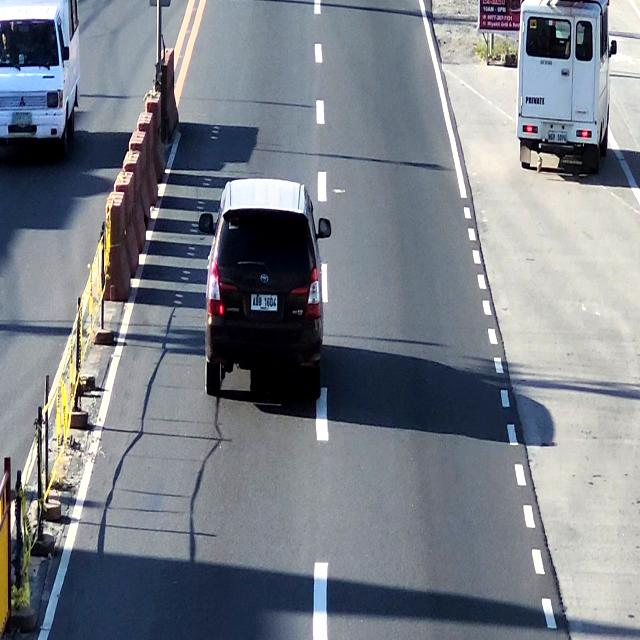Car: (207, 180, 326, 404), (519, 3, 611, 171)
License-Plate: (248, 293, 280, 314), (546, 128, 569, 146)
